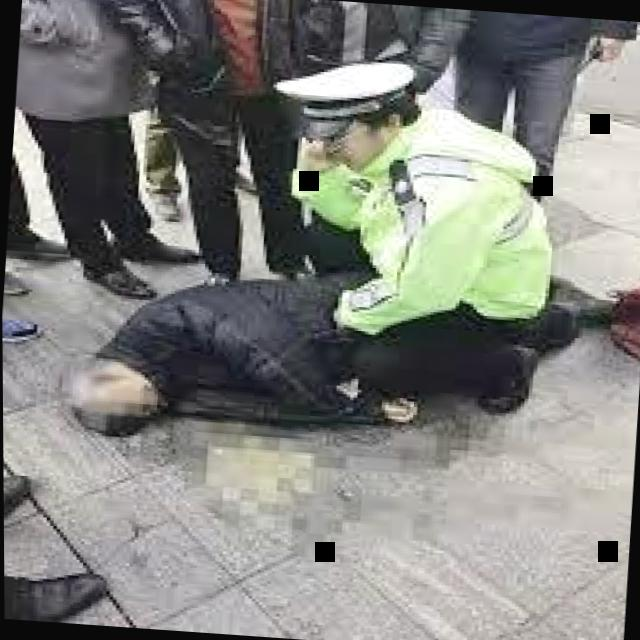Fall-Detected: (56, 219, 640, 472)
